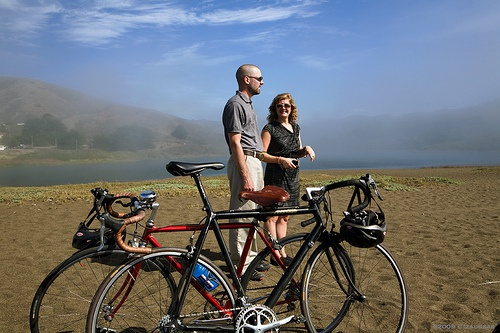non-vehicle: (87, 161, 408, 333), (31, 182, 290, 333)
